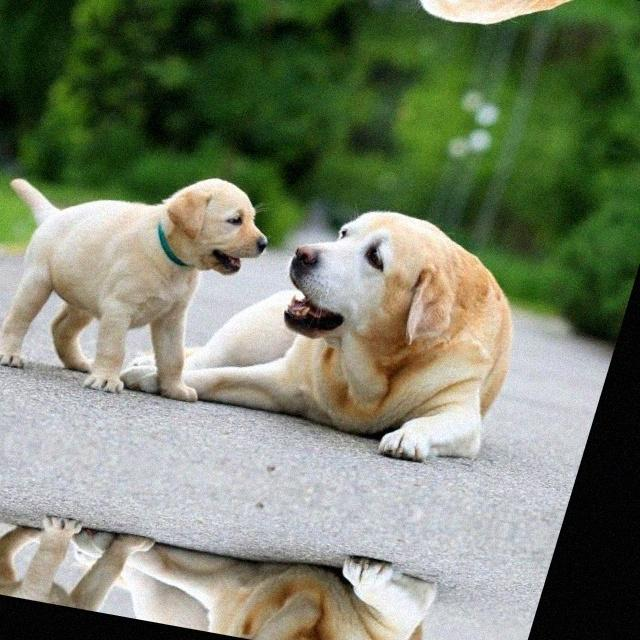dog: (0, 108, 300, 414), (254, 172, 496, 388), (0, 488, 188, 624), (352, 0, 562, 61), (58, 0, 363, 37), (172, 604, 368, 640)
